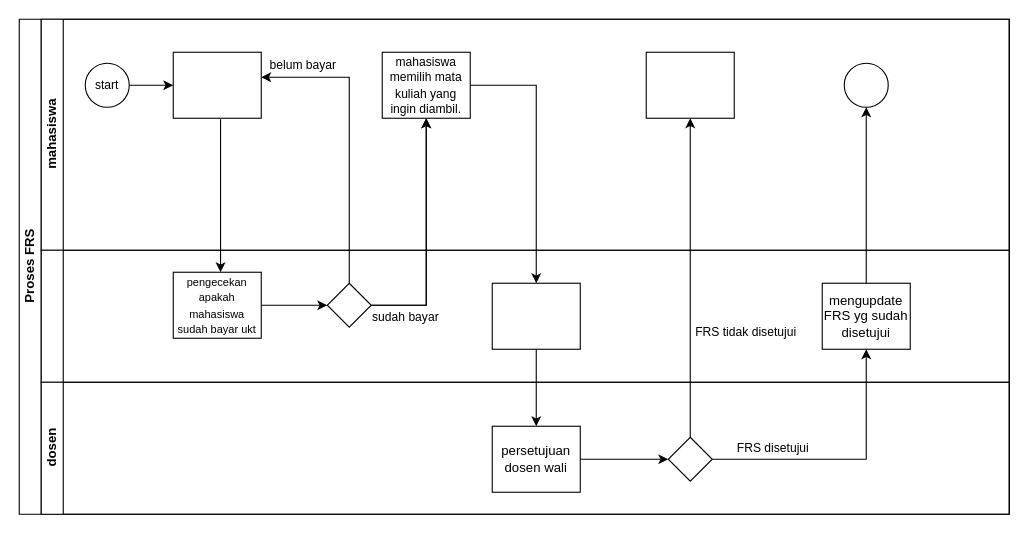
Some shapes in this 1029 by 534 pixel diagram are drawn without their labels. The box of each missing label's shape, as (x1, y1, x2, y2) in pixels:
drop matkul: (645, 51, 734, 118)
mahasiswa membayar ukt: (172, 51, 261, 118)
menyimpan data: (491, 282, 580, 349)
sistem: (40, 249, 1009, 382)
